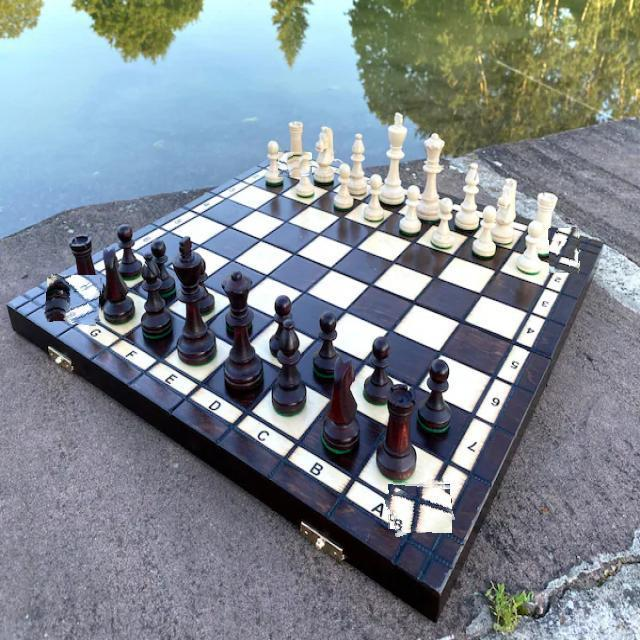chess-table-corners: (386, 480, 452, 533), (45, 275, 102, 324), (549, 228, 580, 273), (278, 152, 312, 177)
